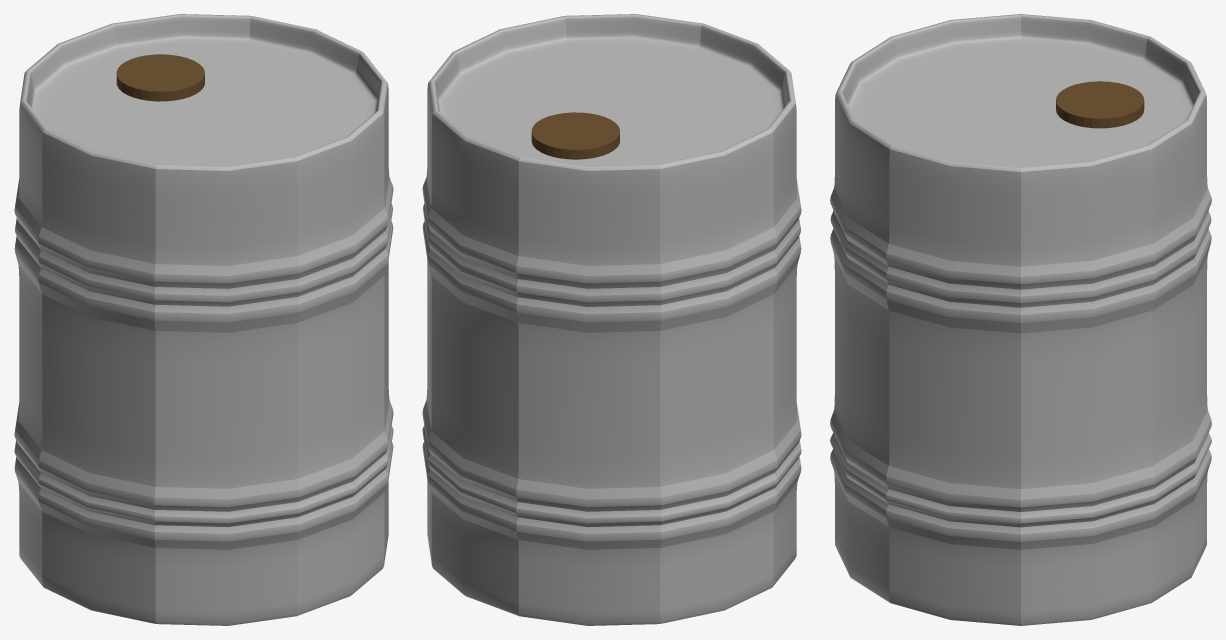
The model's file is red_barrel.fbx.
3 renders of one model, left to right at view 1: azimuth 30°, elevation 25°; view 2: azimuth 150°, elevation 25°; view 3: azimuth 270°, elevation 25°, orthographic.
Parts seen in each view (by area): view 1: red_barrel; view 2: red_barrel; view 3: red_barrel.
Part boxes in pixels (x1,y1,x2,y2): red_barrel: (14,14,393,625); red_barrel: (422,14,801,625); red_barrel: (830,14,1211,625).
Size of the model in its own units: 73.68 by 97.4 by 73.68.
